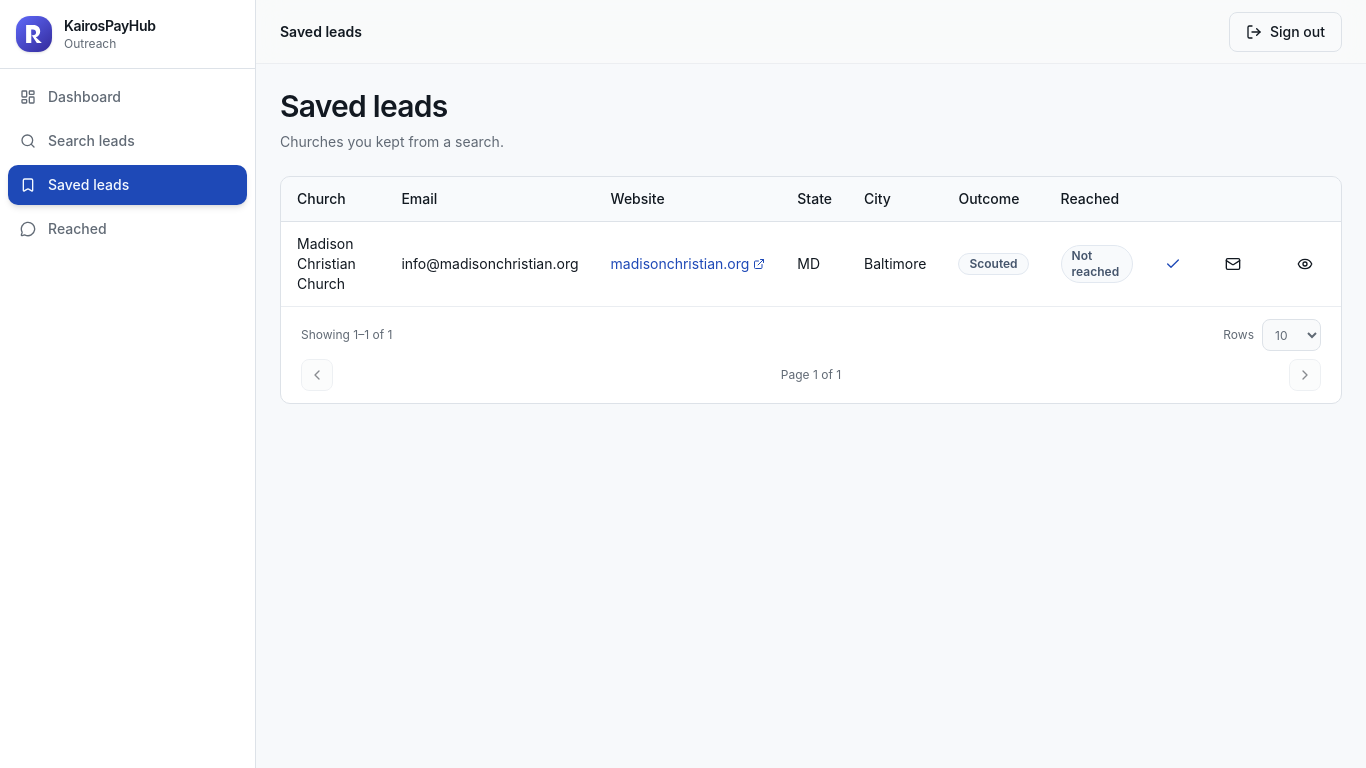
Test: SuperadminSavedPage › shows the recipient as a labelled badge
Click the button named "Message Madison Christian Church".
click(1233, 264)  # box [1213,244,1253,284]
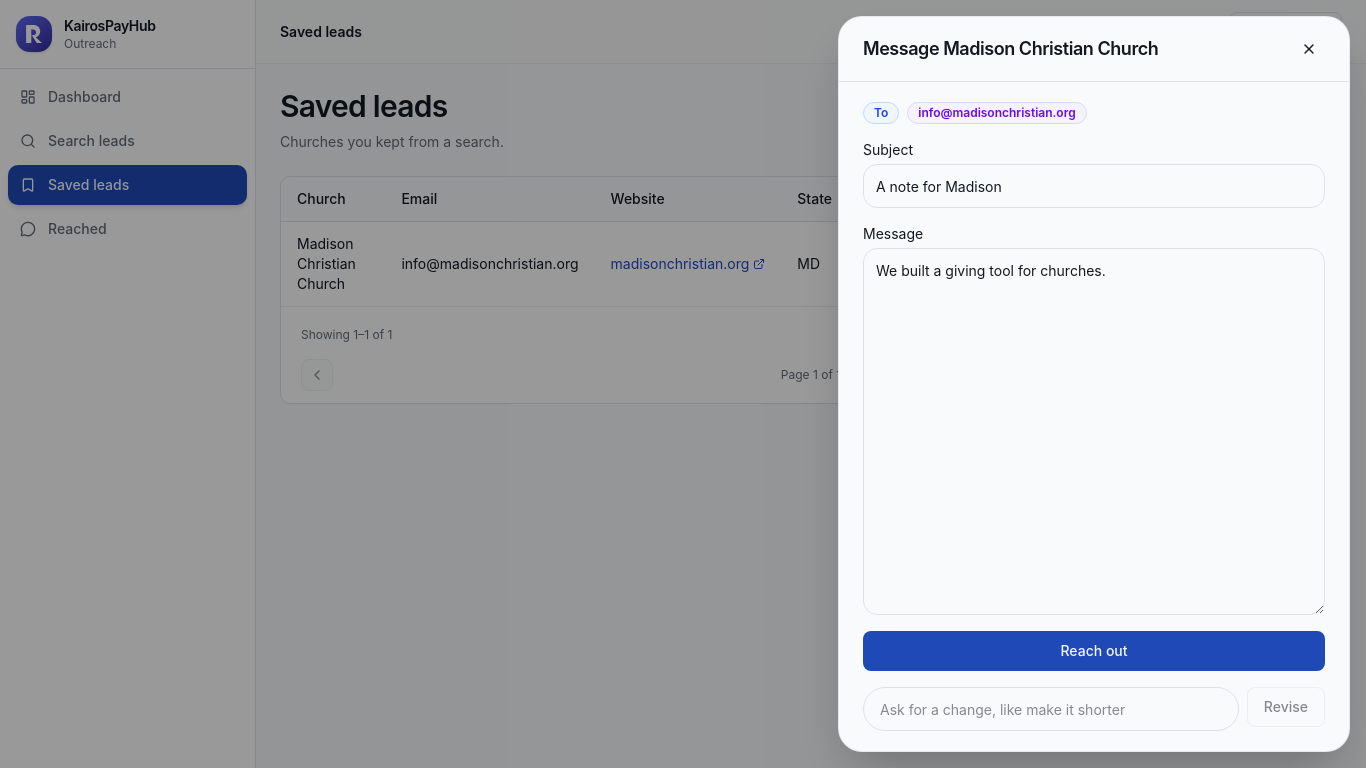
Expected: the text "To" is shown, [863,102,899,124]
Expected: the text "info@madisonchristian.org" is shown, [907,102,1087,124]
